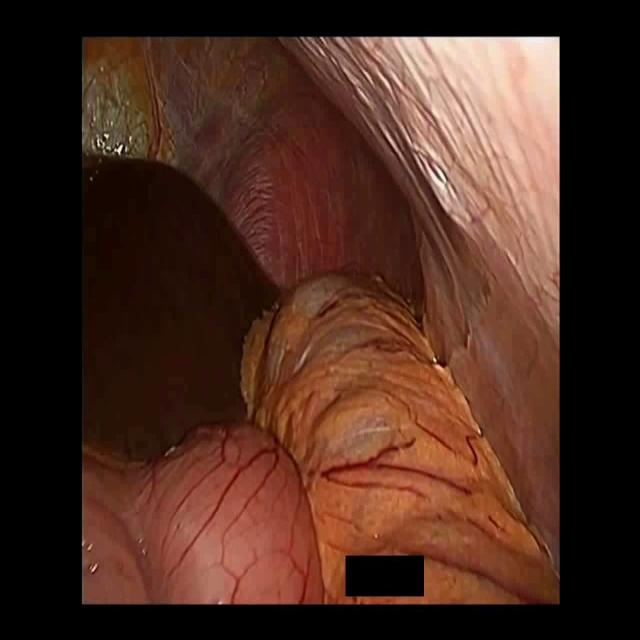surgical-area: (80, 36, 560, 604)
